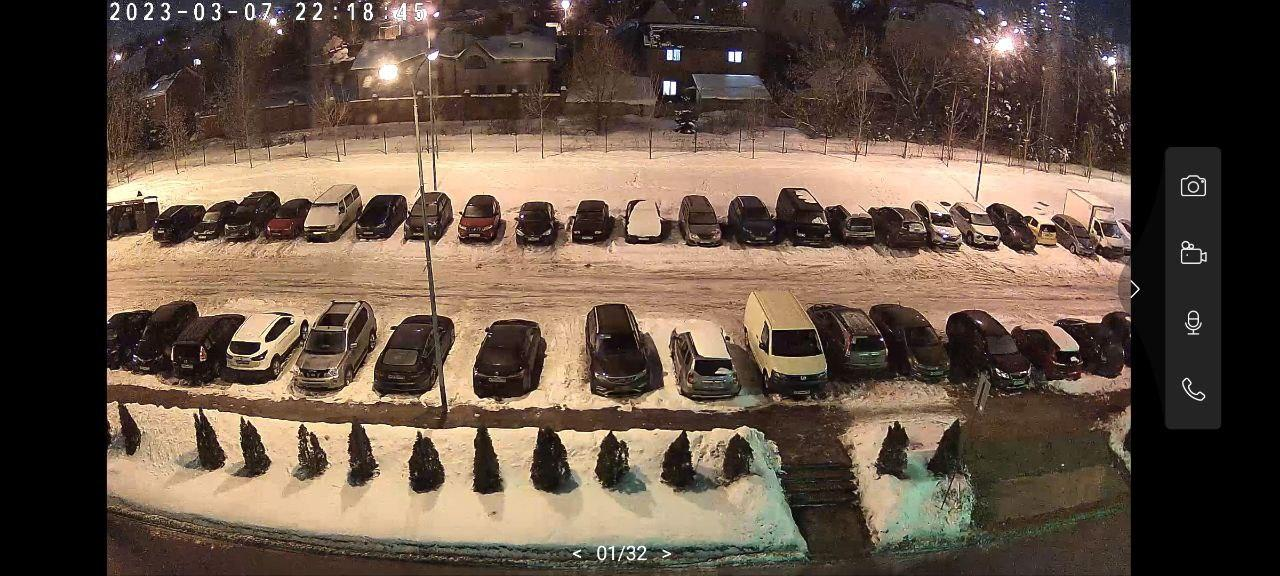empty: (752, 303, 882, 382), (572, 303, 661, 396), (738, 302, 827, 392), (827, 304, 938, 374), (467, 315, 555, 402), (296, 299, 373, 390), (110, 299, 198, 377), (947, 311, 1037, 384), (806, 302, 893, 376), (373, 312, 444, 402), (212, 310, 299, 377), (670, 325, 739, 408), (1011, 305, 1080, 386), (1055, 308, 1119, 382), (884, 304, 949, 376), (287, 187, 365, 241), (199, 192, 285, 240), (719, 195, 783, 247), (992, 207, 1060, 254), (611, 198, 674, 248), (355, 193, 417, 243), (448, 197, 509, 245), (155, 199, 220, 243), (864, 203, 932, 245), (950, 200, 1012, 246), (1056, 217, 1121, 258), (559, 202, 618, 245), (676, 190, 719, 249), (507, 203, 565, 246), (909, 198, 969, 236), (825, 203, 880, 242), (404, 197, 451, 241)
